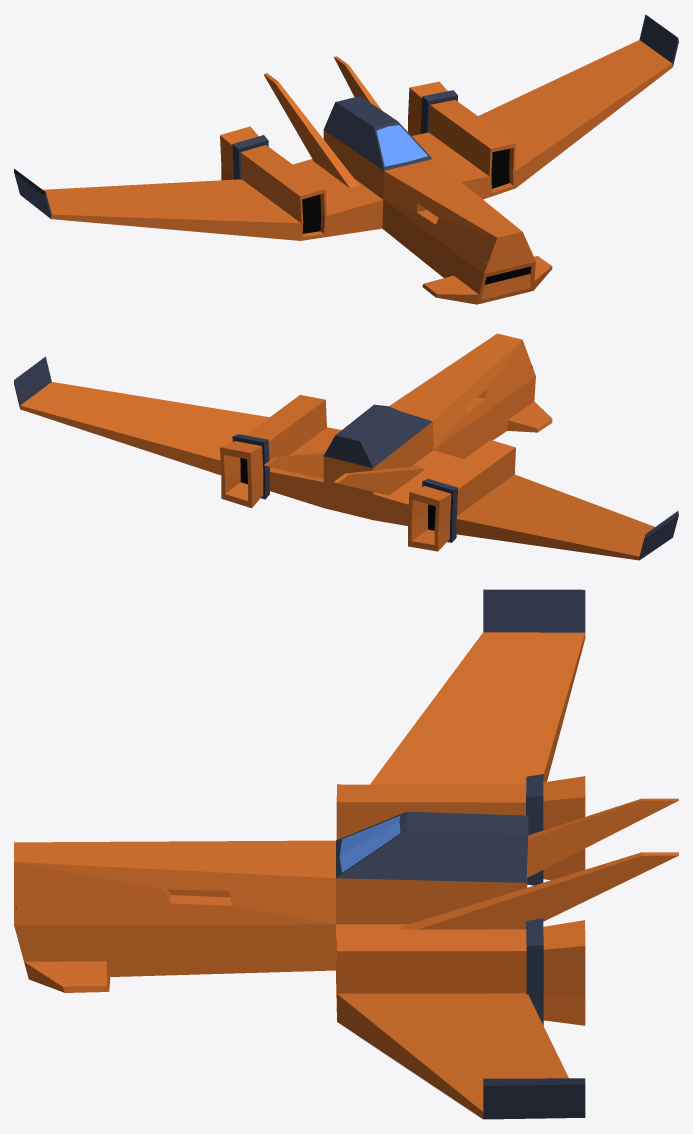
The model's file is StalkerValkyrie.glb.
3 views of the same model, one above another, from view 1: azimuth 30°, elevation 25°; view 2: azimuth 150°, elevation 25°; view 3: azimuth 270°, elevation 25° (orthographic). The views are drawn at different scales.
Parts seen in each view (by area): view 1: StalkerValkyrie; view 2: StalkerValkyrie; view 3: StalkerValkyrie.
Part boxes in pixels (<box>): StalkerValkyrie: <box>14,14,678,304</box>; StalkerValkyrie: <box>14,333,678,560</box>; StalkerValkyrie: <box>14,589,678,1119</box>.
Bounding box in the file's own units: 25.56 × 3.32 × 14.64.
Materials: 1 (1 with a texture image).
